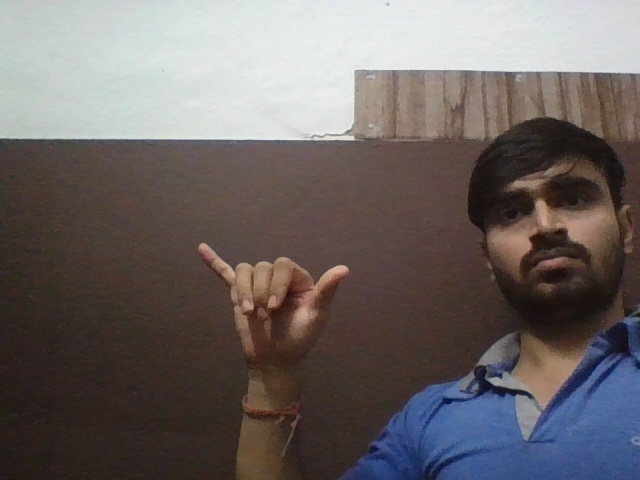Y: (185, 228, 356, 377)
